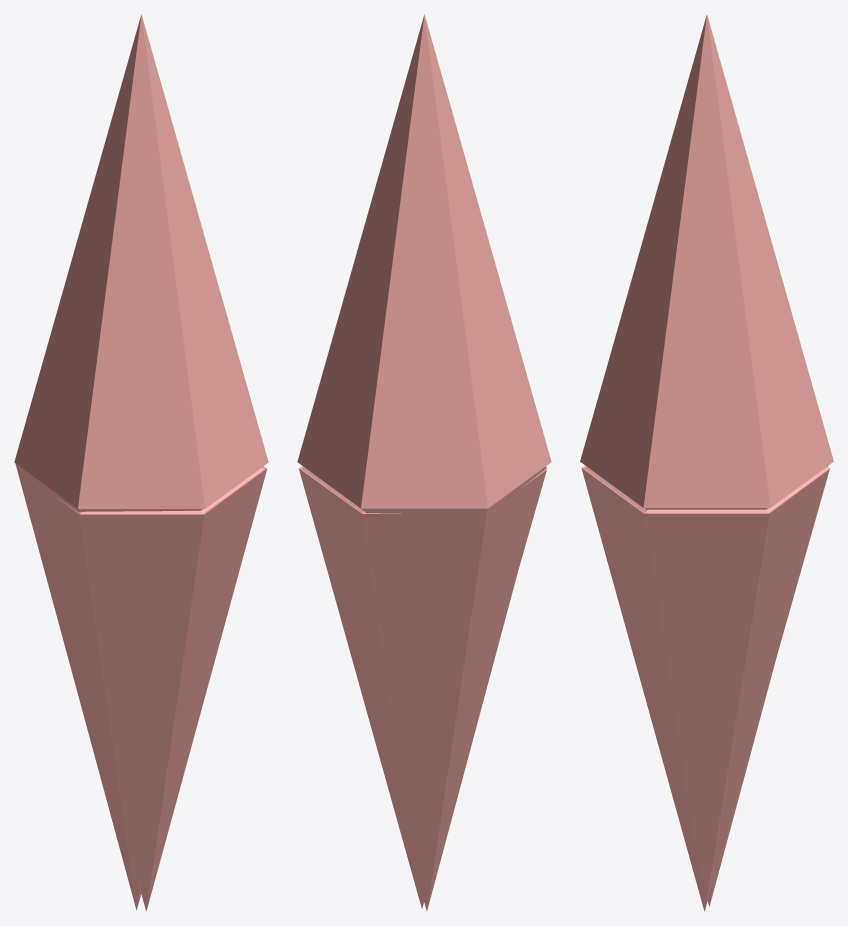
Rendered from crystal_pink.fbx.
The picture shows the model from 3 angles, left to right: view 1: azimuth 30°, elevation 25°; view 2: azimuth 150°, elevation 25°; view 3: azimuth 270°, elevation 25°; orthographic projection.
Visible parts, largest first — view 1: Cone; view 2: Cone; view 3: Cone.
Part boxes in pixels (bbox=[...]): Cone: bbox=[14, 14, 268, 911]; Cone: bbox=[297, 14, 551, 911]; Cone: bbox=[580, 15, 833, 911].
Size of the model in its own units: 22.37 by 101 by 25.83.
